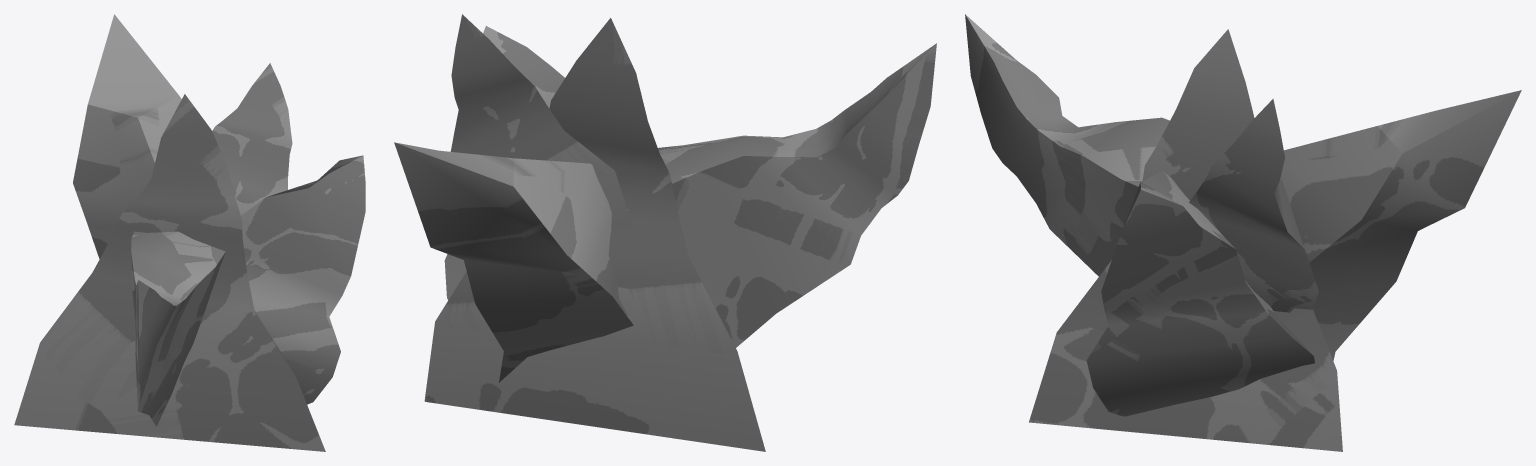
The model's file is CTS_E_PalmDarkRockA.fbx.
3 renders of one model, left to right at view 1: azimuth 30°, elevation 25°; view 2: azimuth 150°, elevation 25°; view 3: azimuth 270°, elevation 25°, orthographic. The views are drawn at different scales.
Visible parts, largest first — view 1: CTS_E_PalmDarkRockA; view 2: CTS_E_PalmDarkRockA; view 3: CTS_E_PalmDarkRockA.
Part boxes in pixels (<box>): CTS_E_PalmDarkRockA: <box>14,14,365,451</box>; CTS_E_PalmDarkRockA: <box>394,14,936,451</box>; CTS_E_PalmDarkRockA: <box>965,14,1521,451</box>.
Size of the model in its own units: 1309 by 1291 by 1798.
